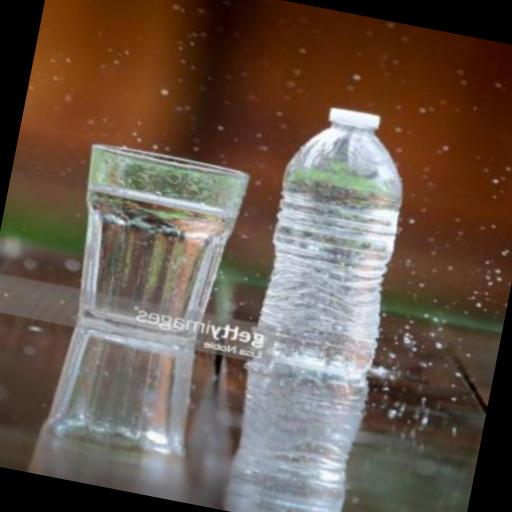Coca: (238, 90, 432, 387)
